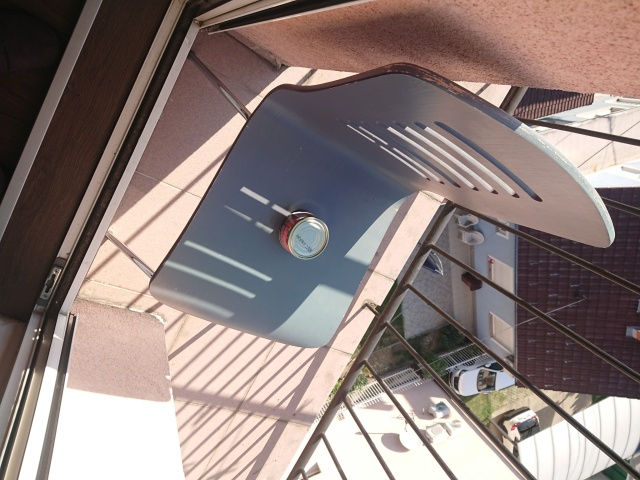Giana Tuna Salad Mexico 185g: (275, 208, 331, 262)
